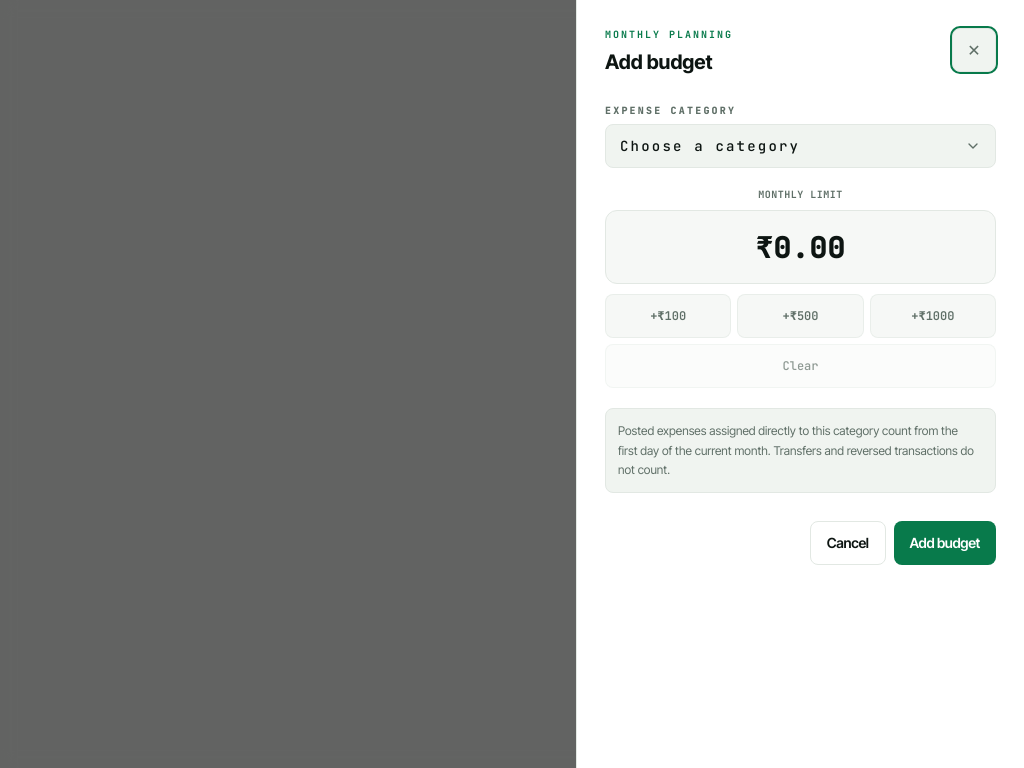
Test: BudgetForm › keeps an invalid value in the form and shows an inline error
Click the dropdown named "Expense category" at point(800, 146), box [605,124,996,168]
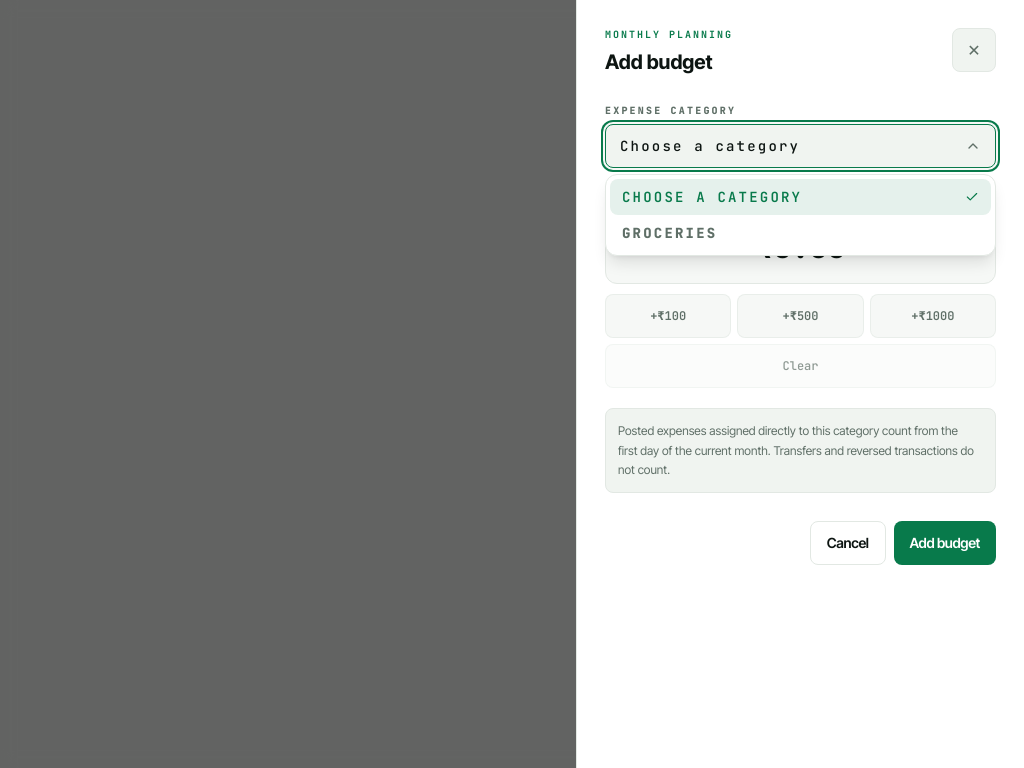
Click the option "Groceries" at point(670, 233), box [622,224,717,242]
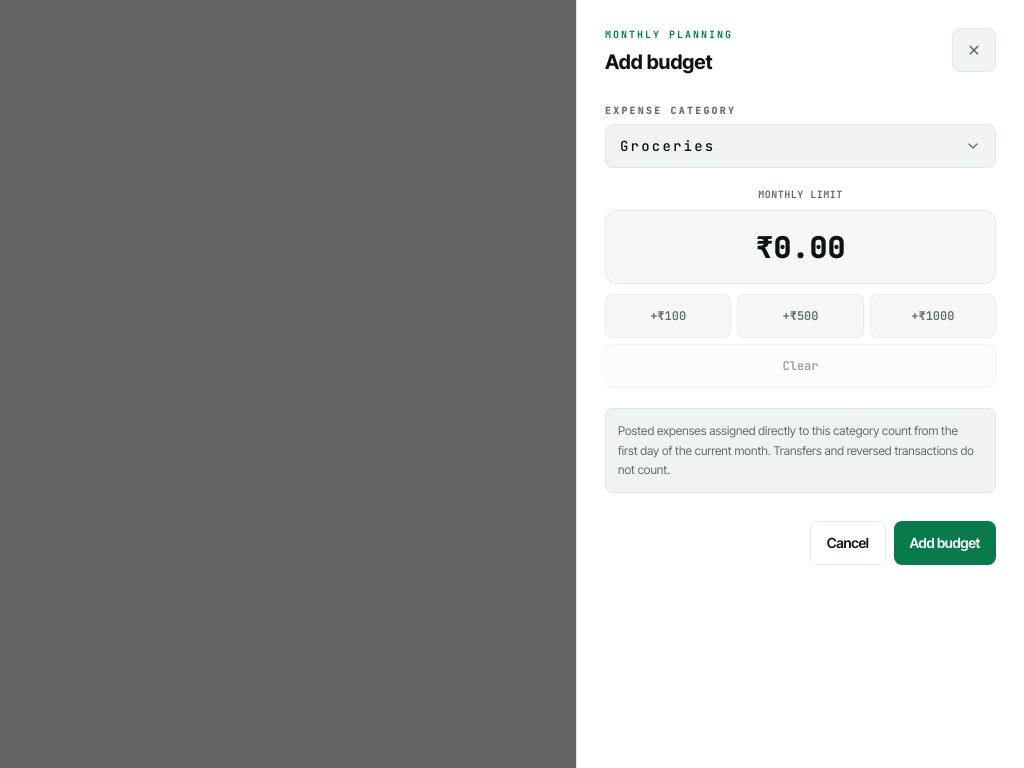
Replace the text in the field labelled "Monthly limit" with "0" at point(800, 247), box [605,210,996,284]
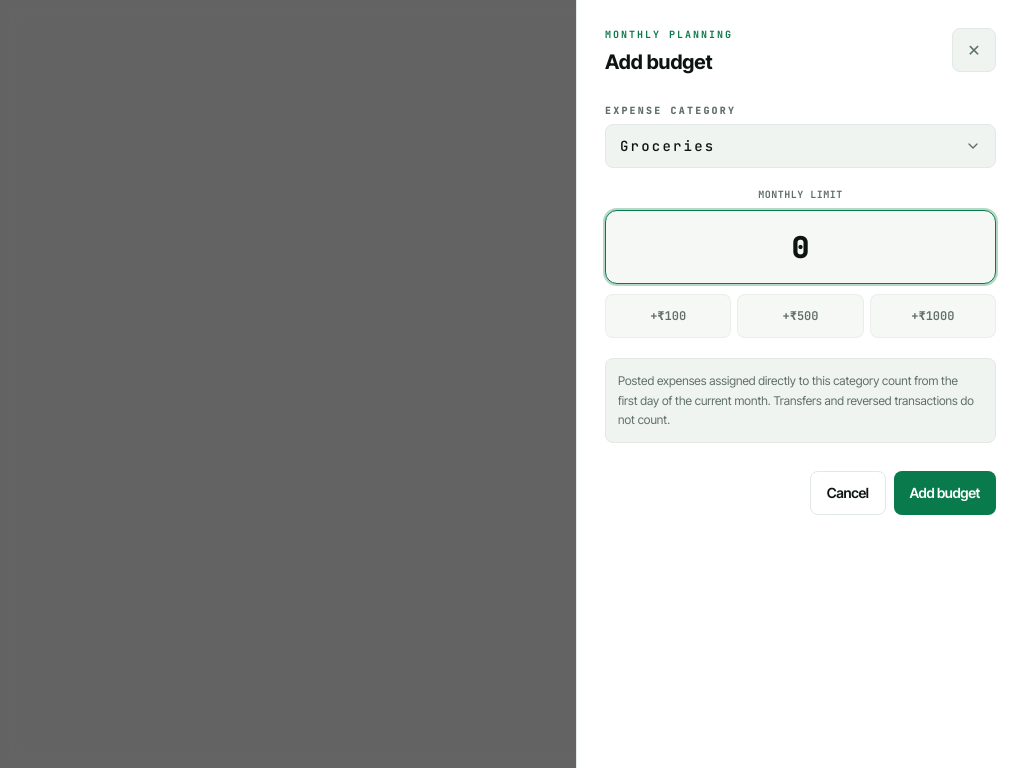
Click the button "Add budget" at point(945, 492), box [894,470,996,514]
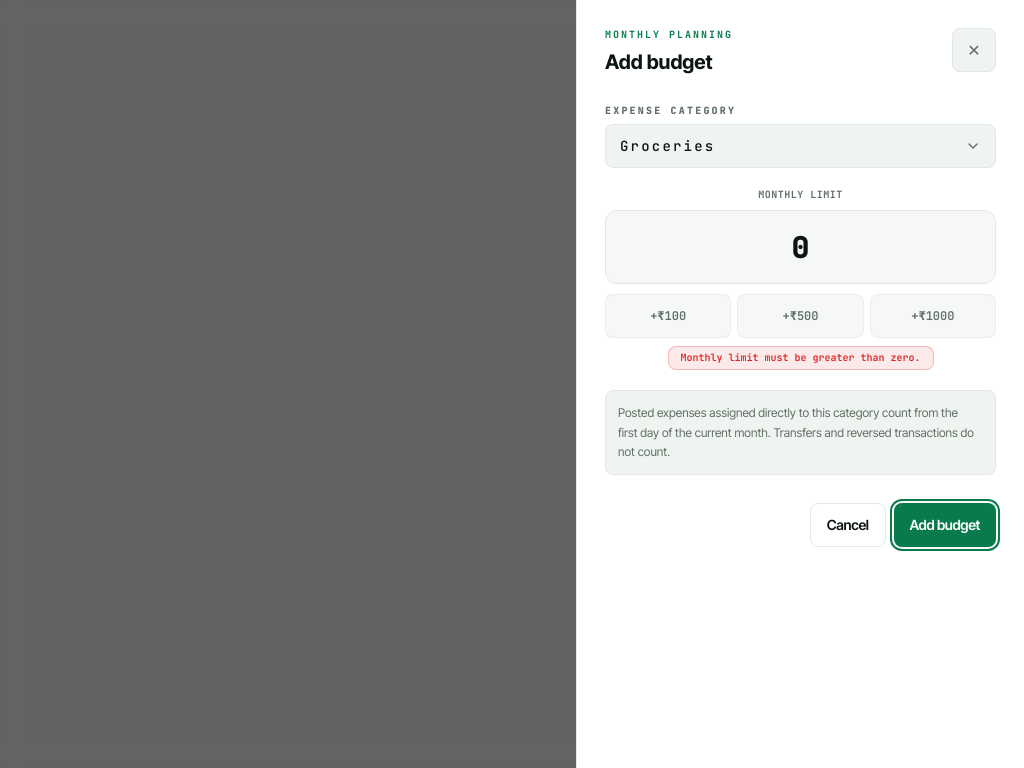
Check: the text "Monthly limit must be greater than zero." is shown, box [668,346,934,370]
